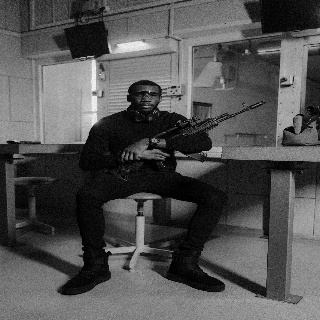rifle: (118, 100, 265, 173)
